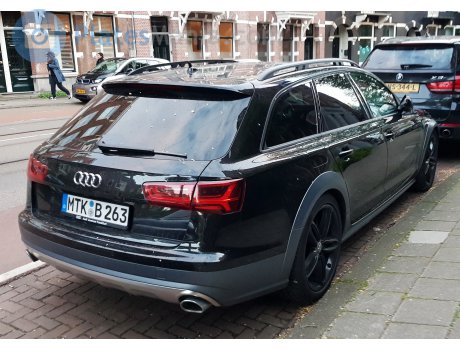License Plates: (67, 194, 126, 217)
